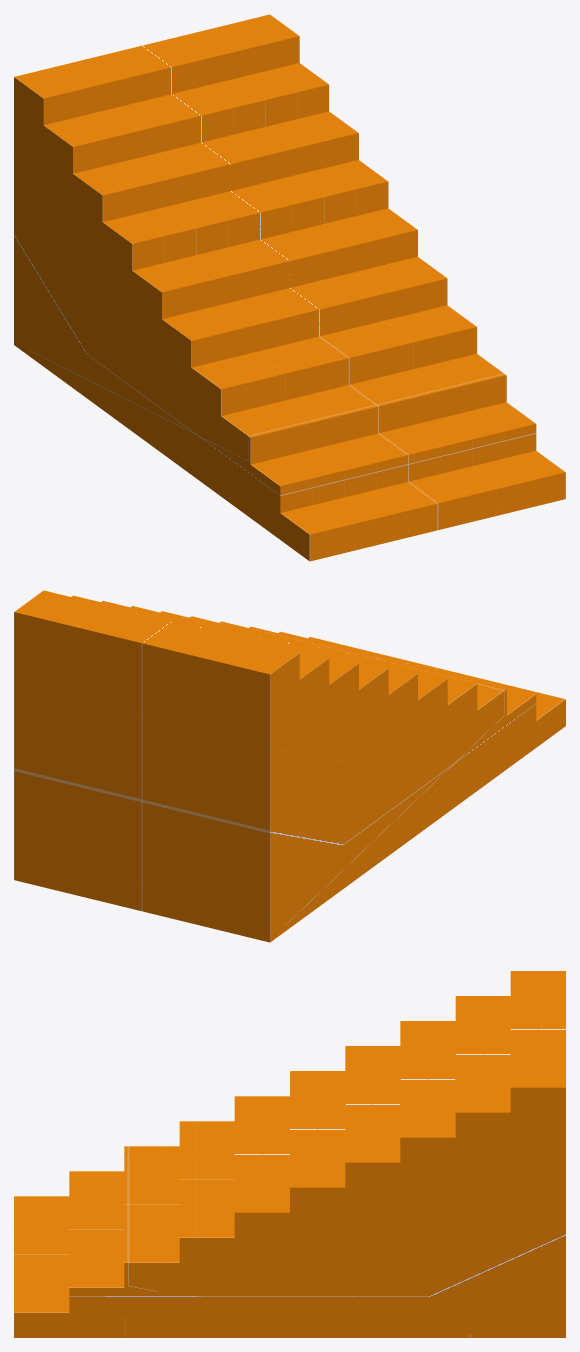
File: OrangeStairs1m-col.GLB
3 views of the same model, one above another, from view 1: azimuth 30°, elevation 25°; view 2: azimuth 150°, elevation 25°; view 3: azimuth 270°, elevation 25° (orthographic). The views are drawn at different scales.
Visible parts, largest first — view 1: OrangeStairs1m-col; view 2: OrangeStairs1m-col; view 3: OrangeStairs1m-col.
Part boxes in pixels (x1,y1,x2,y2): OrangeStairs1m-col: (14, 14, 565, 561); OrangeStairs1m-col: (14, 590, 565, 942); OrangeStairs1m-col: (14, 971, 565, 1337).
Size of the model in its own units: 1 by 1 by 2.
Materials: 1 (1 with a texture image).
